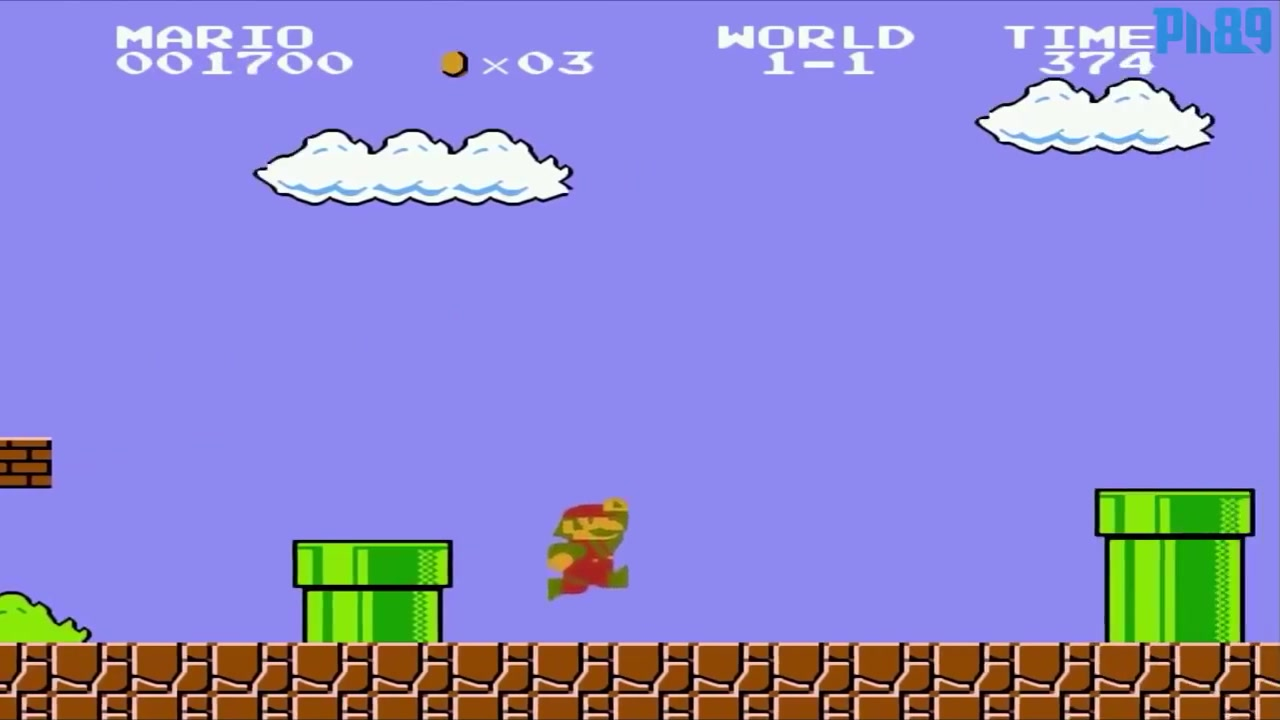mario: (535, 493, 637, 603)
